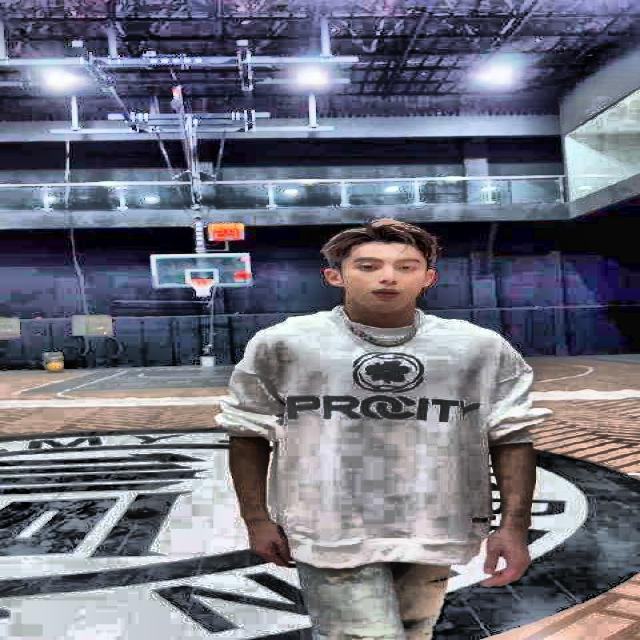rim: (1, 427, 638, 638)
